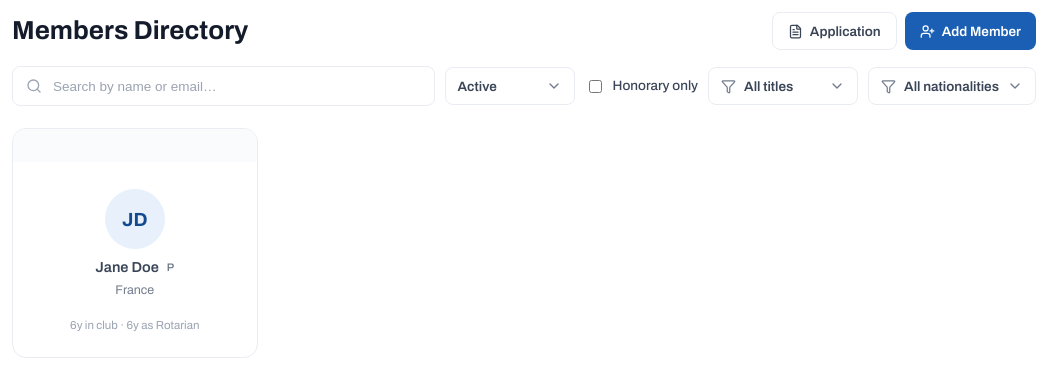
Test: MembersList › as admin › shows an empty-state message when the search matches nobody
In the field labelled "Search by name or email…": coordinates (236, 86) [51,78,420,94], type "nobody-matches-this"
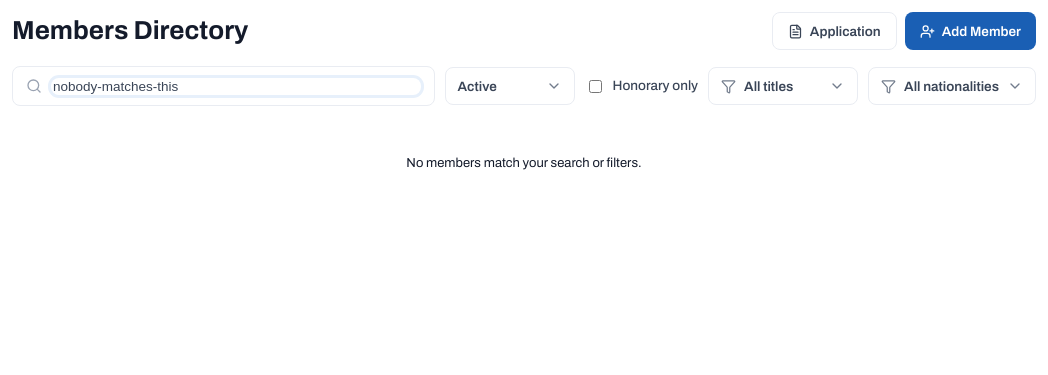
Expected: the text "Jane Doe" is gone
Expected: the text "No members match your search or filters." is shown, [406,156,642,170]
